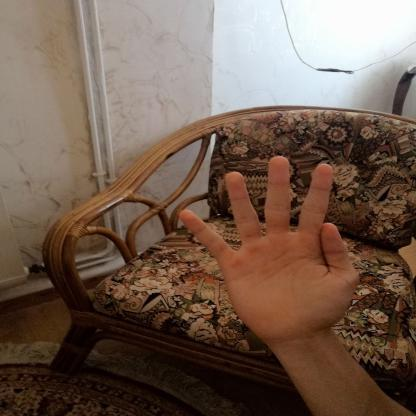SHEEN: (160, 146, 369, 352)
